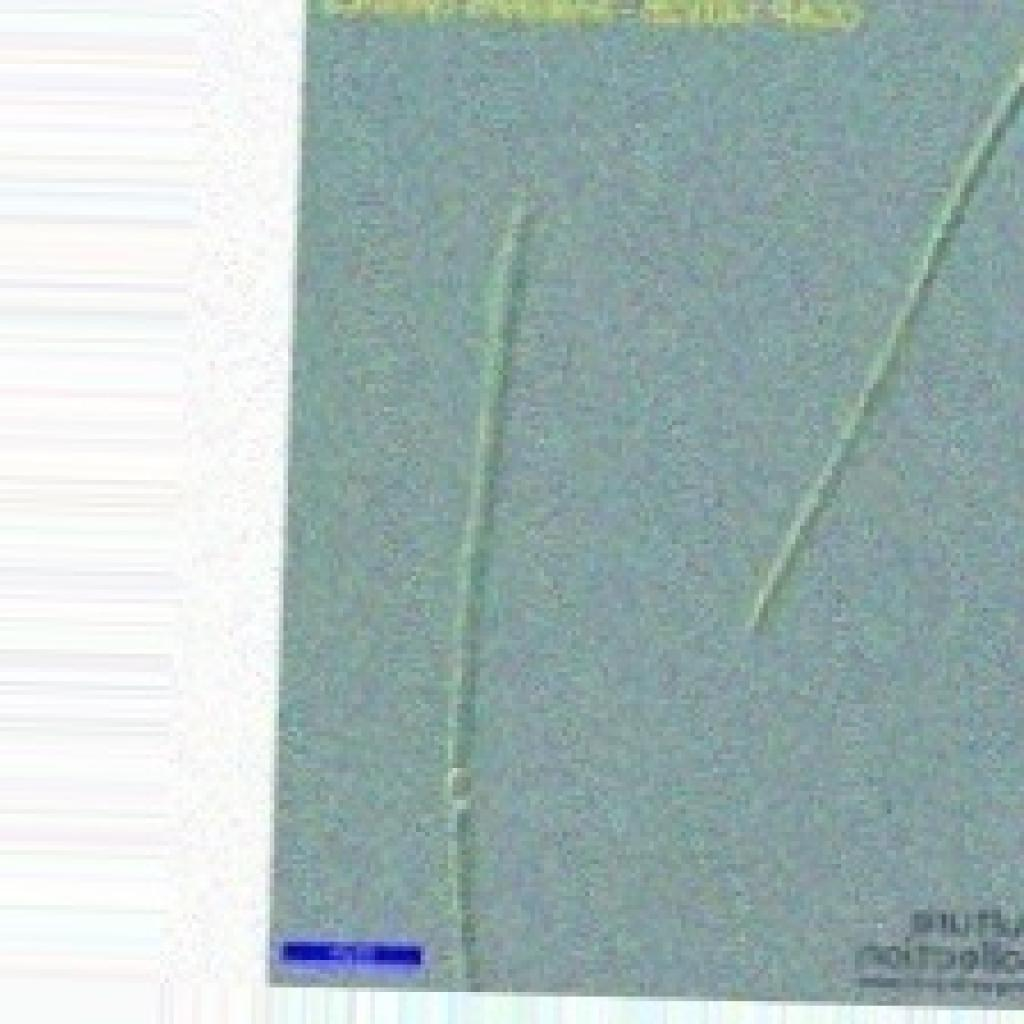Microalgae: (265, 0, 1019, 1010)
